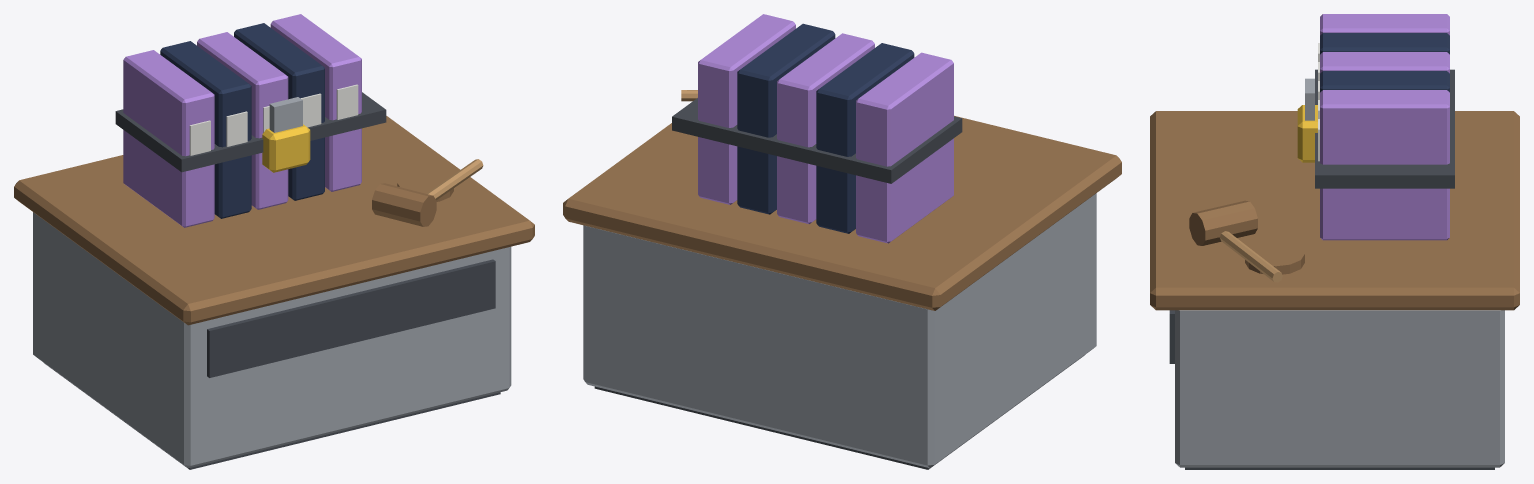
The model's file is autoreply_p2_4.glb.
3 renders of one model, left to right at view 1: azimuth 30°, elevation 25°; view 2: azimuth 150°, elevation 25°; view 3: azimuth 270°, elevation 25°, orthographic. The views are drawn at different scales.
Parts seen in each view (by area): view 1: autoreply_p2_4_mesh_Desk, autoreply_p2_4_mesh; view 2: autoreply_p2_4_mesh_Desk, autoreply_p2_4_mesh; view 3: autoreply_p2_4_mesh_Desk, autoreply_p2_4_mesh.
Boxes of the visible parts, left/top/right/bottom form: autoreply_p2_4_mesh_Desk: left=14, top=116, right=534, bottom=469; autoreply_p2_4_mesh: left=115, top=14, right=483, bottom=227; autoreply_p2_4_mesh_Desk: left=563, top=115, right=1121, bottom=469; autoreply_p2_4_mesh: left=672, top=14, right=962, bottom=243; autoreply_p2_4_mesh_Desk: left=1150, top=111, right=1519, bottom=469; autoreply_p2_4_mesh: left=1189, top=14, right=1454, bottom=282.
Bounding box in the file's own units: 0.8688 × 0.72 × 0.74.
